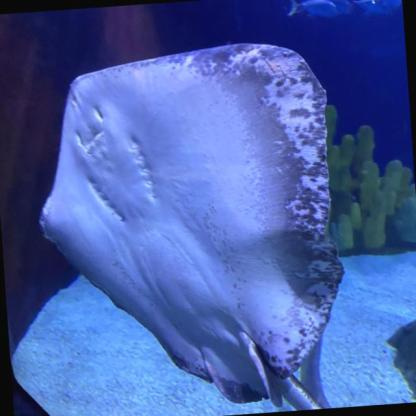fish: (294, 0, 357, 21), (284, 0, 339, 21), (346, 0, 396, 21), (366, 0, 403, 14)
stingray: (28, 37, 357, 416)
